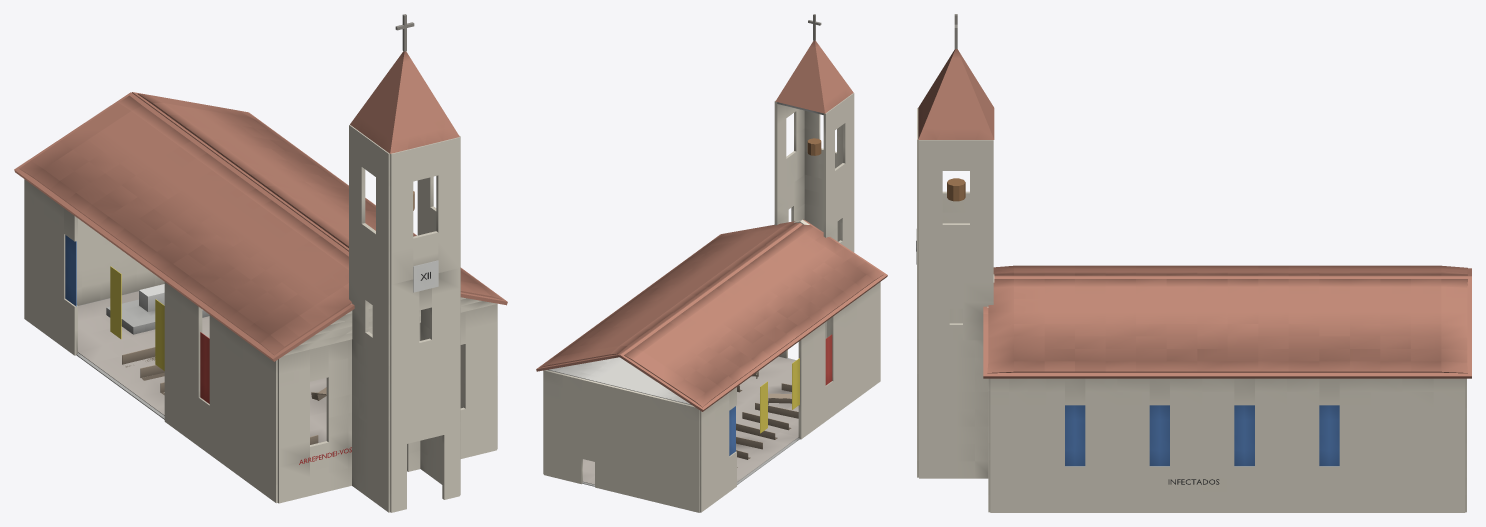
Rendered from igreja.glb.
3 views of the same model, side by side, from view 1: azimuth 30°, elevation 25°; view 2: azimuth 150°, elevation 25°; view 3: azimuth 270°, elevation 25° (orthographic). The views are drawn at different scales.
Parts seen in each view (by area): view 1: ext, longe, dentro, detalhe; view 2: ext, longe, dentro; view 3: ext, longe, dentro, detalhe.
Part boxes in pixels (x1,y1,x2,y2): ext: (24, 125, 497, 512); longe: (14, 51, 507, 361); dentro: (65, 235, 407, 470); detalhe: (299, 14, 438, 464); ext: (543, 93, 880, 512); longe: (536, 40, 887, 411); dentro: (548, 334, 832, 486); ext: (917, 108, 1466, 512); longe: (918, 49, 1471, 378); dentro: (1065, 405, 1339, 466); detalhe: (916, 14, 1219, 484).
Size of what is drawn, in the model's own units: 15.07 by 29.49 by 32.78.
